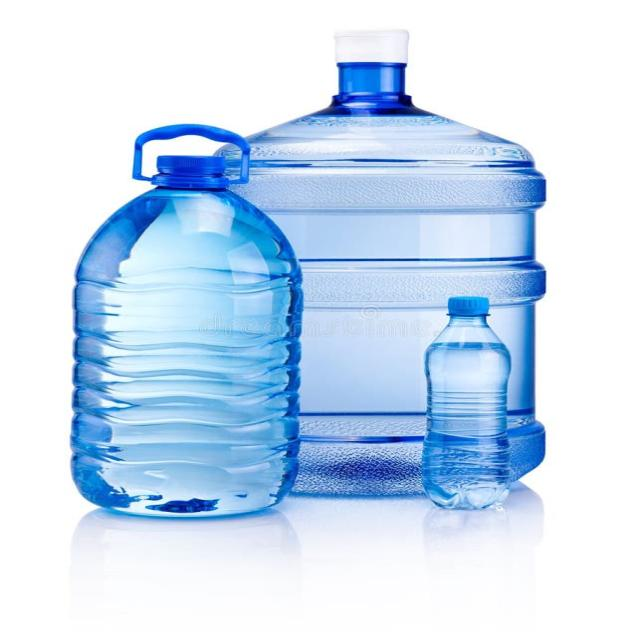plastic_bottle: (242, 26, 570, 531), (28, 107, 329, 549), (415, 276, 523, 504)
